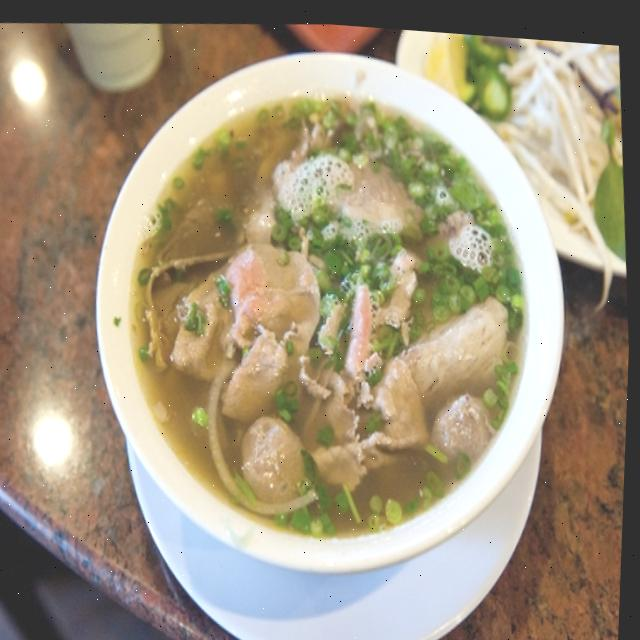汤锅炖物: (96, 36, 568, 583)
